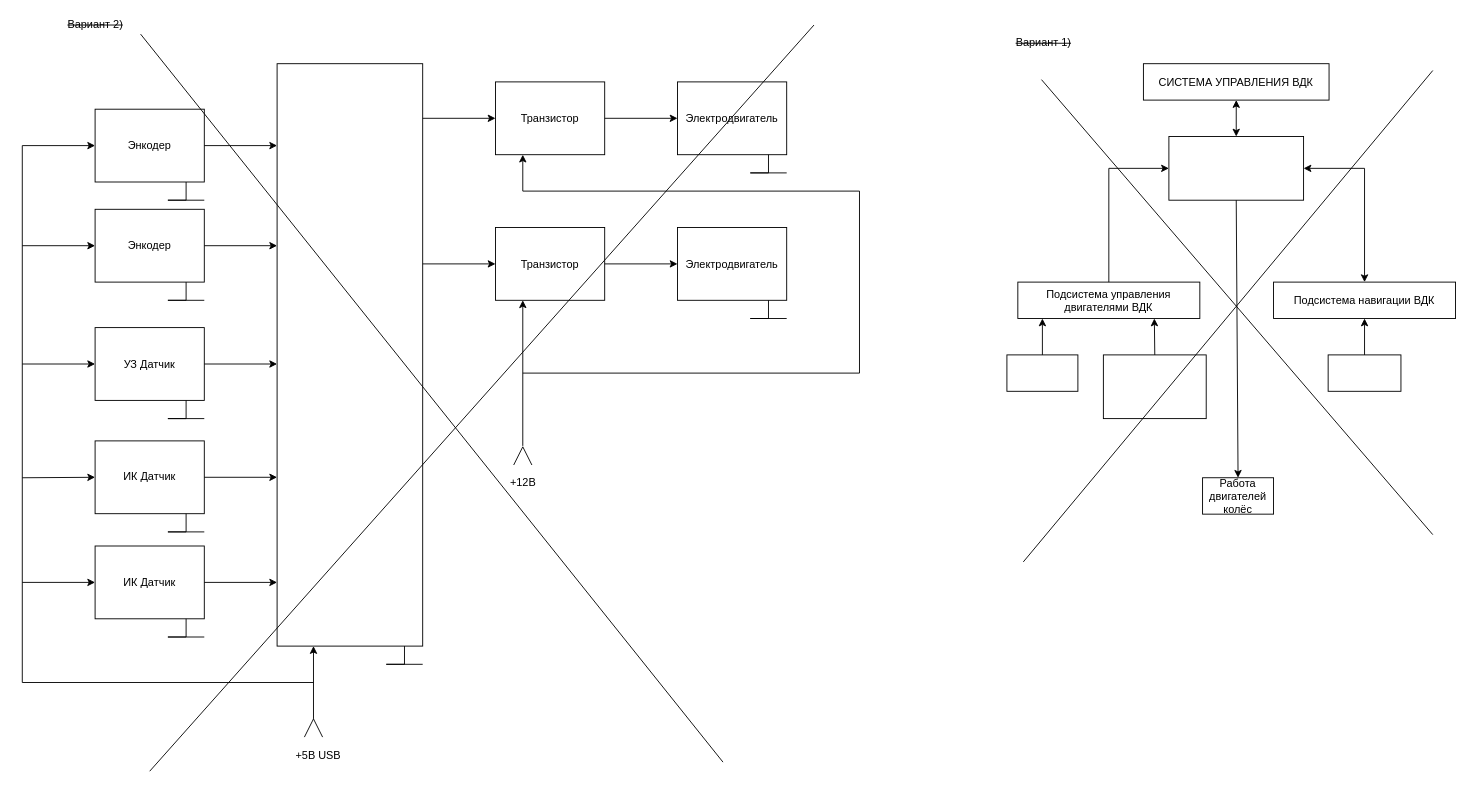
Some shapes in this 1471 by 788 pixel diagram are drawn without their labels. Here are the shapes that lost their labels. From the top down, the centre of each, then its label:
the point at 1236,168: МИКРОКОНТРОЛЛЕР ARDUINO
the point at 349,354: MCU
the point at 1042,372: Датчики скорости
the point at 1364,372: УЗ датчики
the point at 1154,386: Датчики положения (Гироскоп + Акселерометр)
